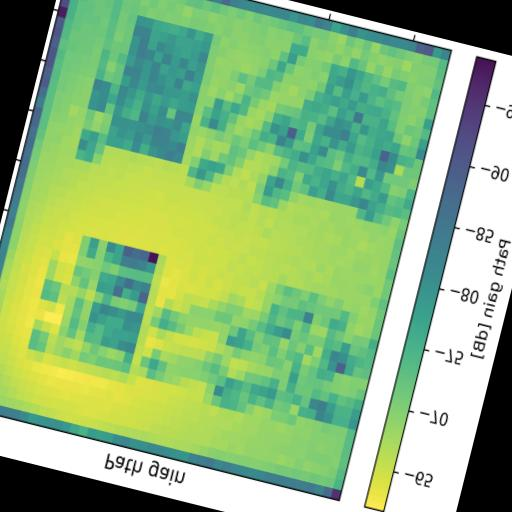Concrete: (238, 280, 362, 423)
Glass: (54, 234, 166, 375)
Metal: (292, 61, 410, 211)
Wood: (106, 16, 214, 164)
